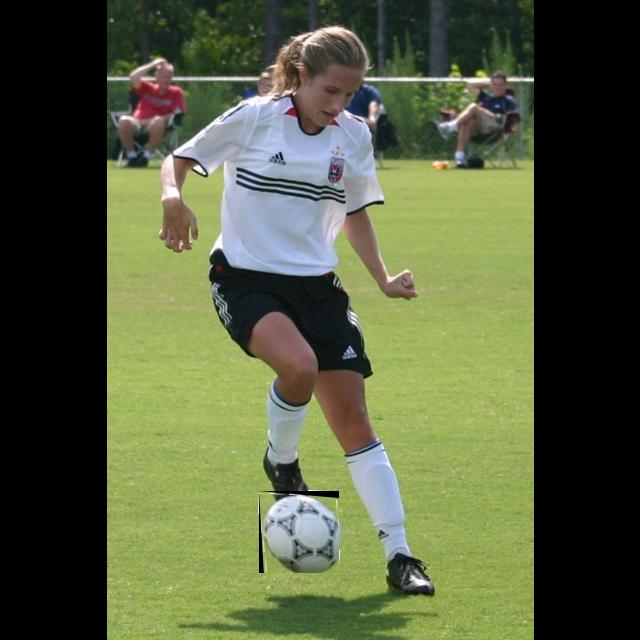Football: (259, 491, 339, 573)
